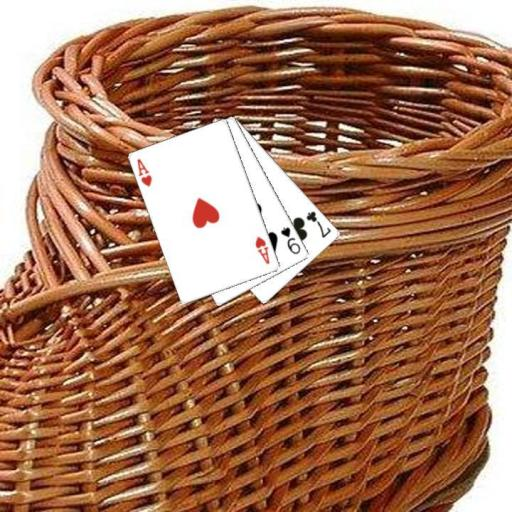7C: (303, 208, 333, 240)
9S: (278, 224, 302, 256)
AH: (253, 233, 272, 266), (135, 156, 154, 188)
